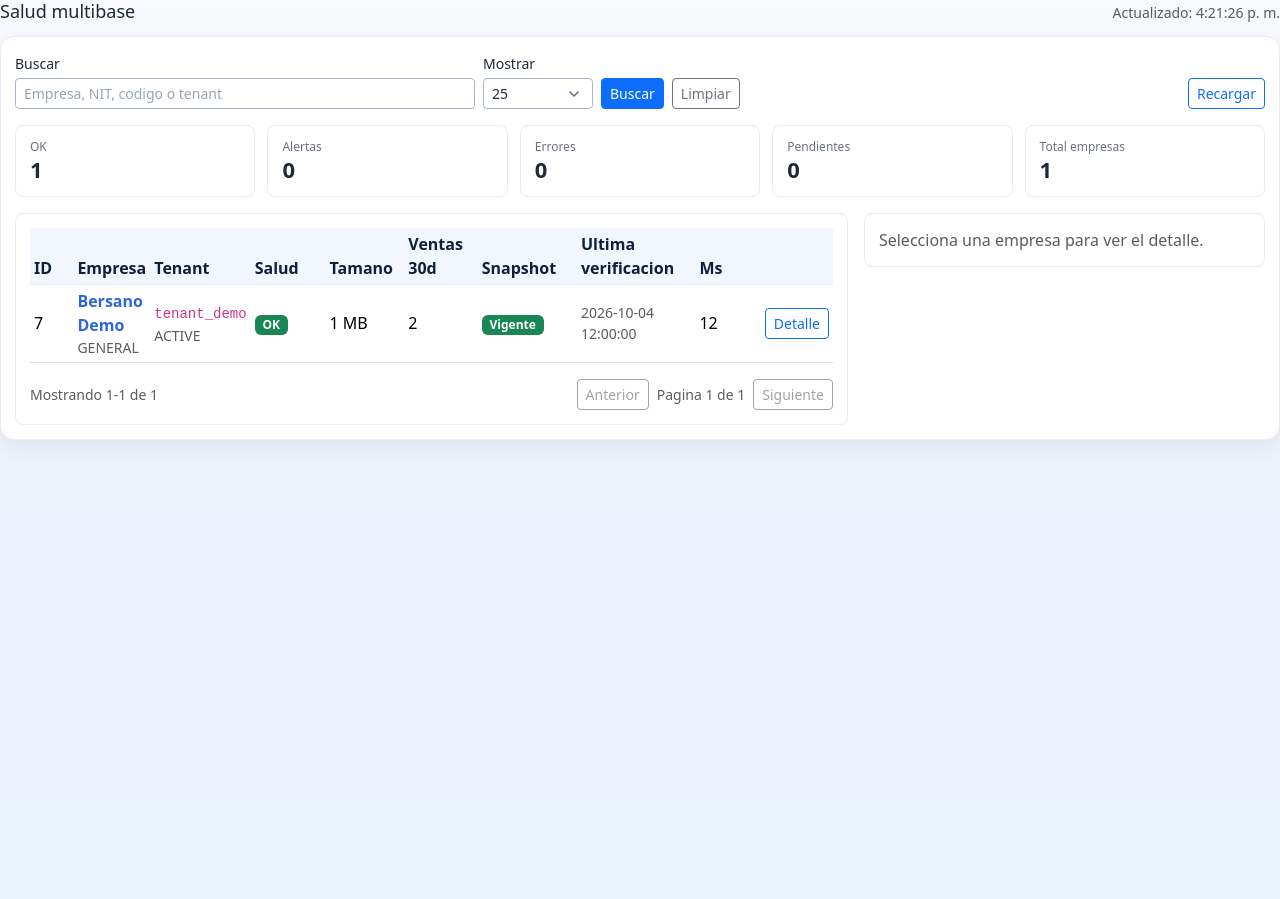
Test: TenantHealthPage › abre detalle rapido con deep=0 y actualiza la fila local
Expected: the button "Bersano Demo" is shown, [77,288,146,336]
Click the button "Detalle" at (797, 323), box [765,308,829,338]
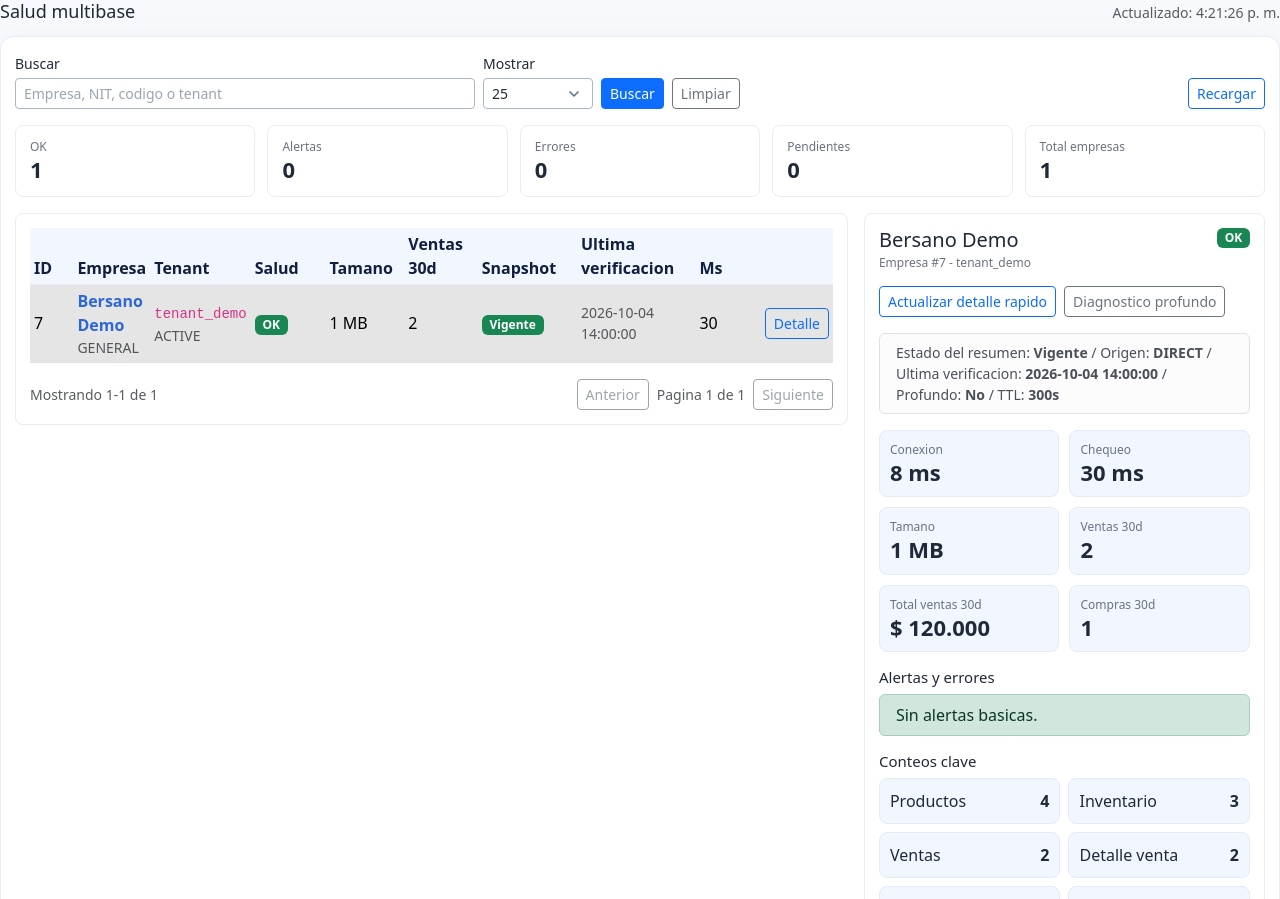
Result: the text "Origen:" is shown at [1091,342,1153,362]
Result: the text "DIRECT" is shown at [1153,342,1203,362]
Result: the text "30 ms" is shown at [1080,456,1144,486]
